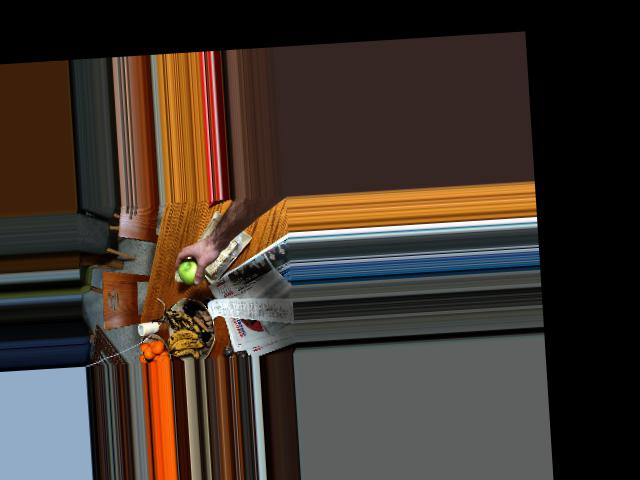apple: (177, 256, 206, 285)
